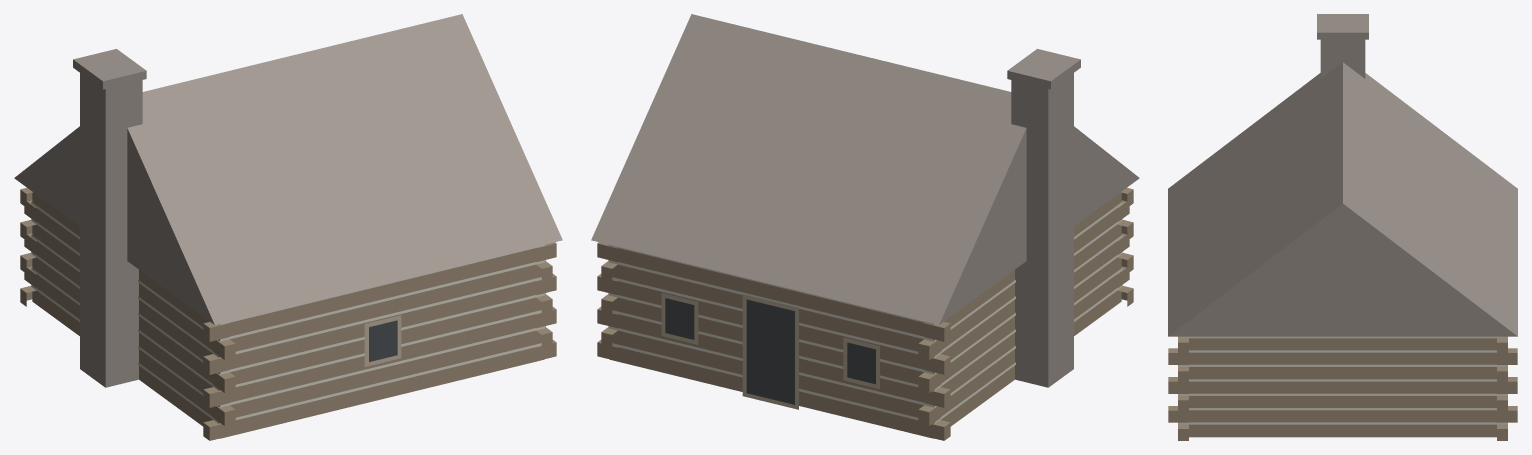
Rendered from walker_meeting_house__log_1831.glb.
3 renders of one model, left to right at view 1: azimuth 30°, elevation 25°; view 2: azimuth 150°, elevation 25°; view 3: azimuth 270°, elevation 25°, orthographic. The views are drawn at different scales.
Visible parts, largest first — view 1: walker_meeting_house__log_1831; view 2: walker_meeting_house__log_1831; view 3: walker_meeting_house__log_1831.
Part boxes in pixels (left/top/right/bottom): walker_meeting_house__log_1831: left=14, top=14, right=562, bottom=440; walker_meeting_house__log_1831: left=591, top=14, right=1139, bottom=440; walker_meeting_house__log_1831: left=1168, top=14, right=1517, bottom=440.
Size of the model in its own units: 8.07 by 6.43 by 7.5.
